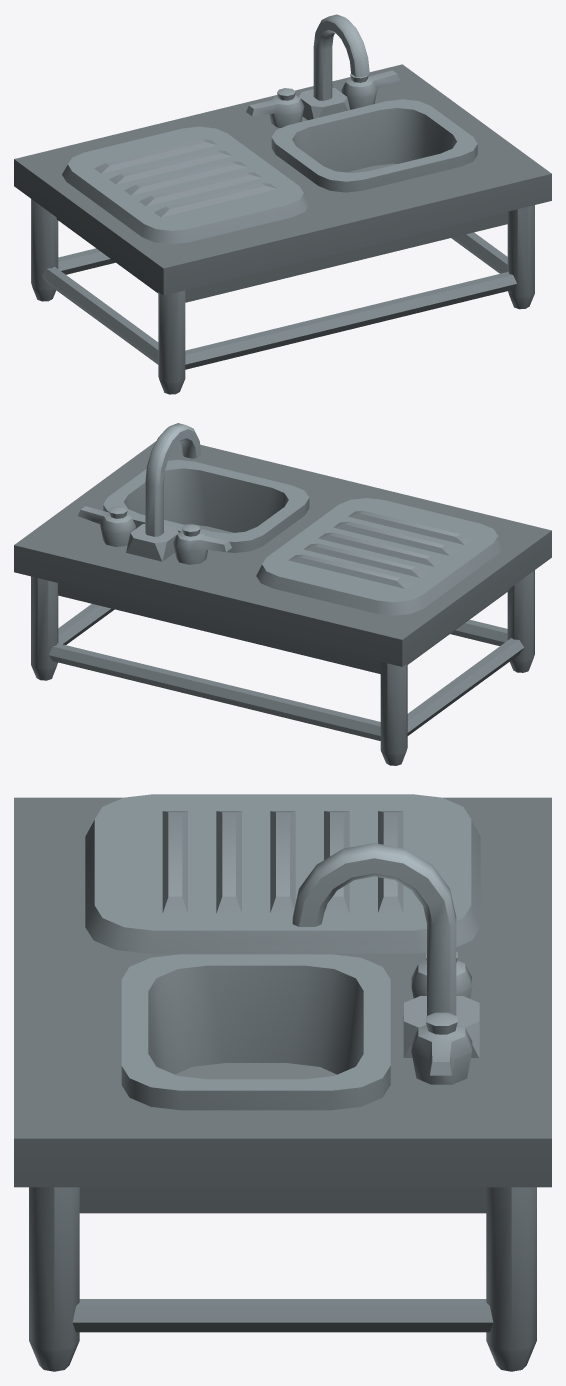
The model's file is kitchentable_sink_large.obj.
3 renders of one model, top to bottom at view 1: azimuth 30°, elevation 25°; view 2: azimuth 150°, elevation 25°; view 3: azimuth 270°, elevation 25°, orthographic. The views are drawn at different scales.
Visible parts, largest first — view 1: kitchentable_sink_large_Cube.988; view 2: kitchentable_sink_large_Cube.988; view 3: kitchentable_sink_large_Cube.988.
Part boxes in pixels (x1,y1,x2,y2): kitchentable_sink_large_Cube.988: (14, 14, 551, 394); kitchentable_sink_large_Cube.988: (14, 423, 551, 765); kitchentable_sink_large_Cube.988: (14, 794, 551, 1371).
Size of the model in its own units: 3 by 1.8 by 2.
1 material, 1 textured.
